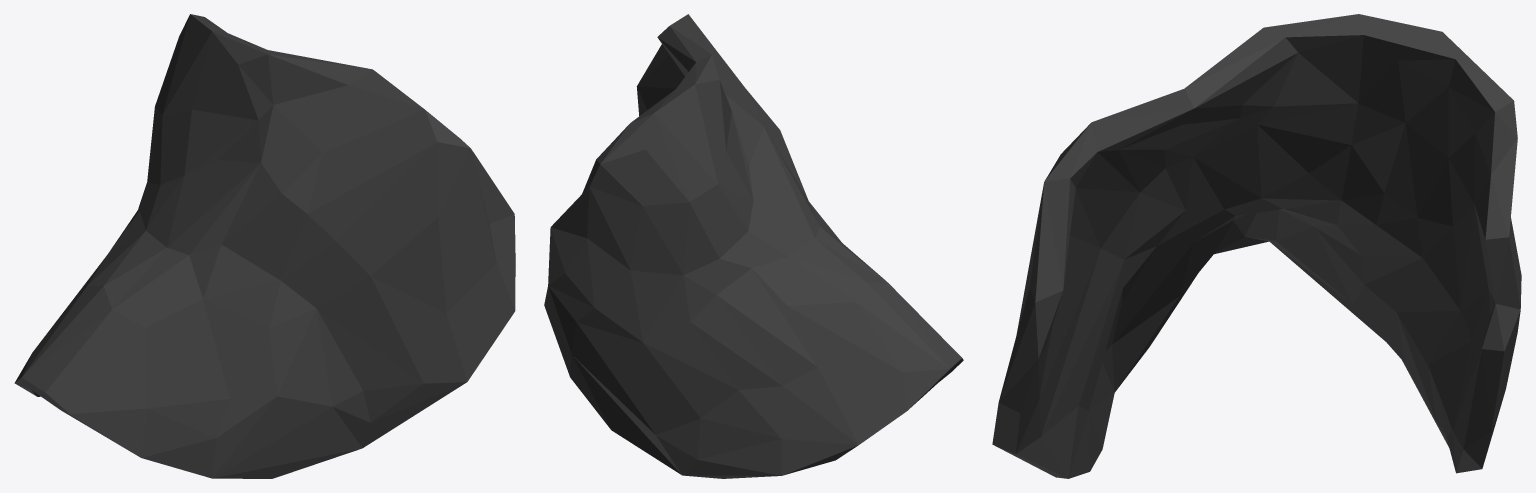
File: Femur_intercondyloid_fossa.glb
3 views of the same model, side by side, from view 1: azimuth 30°, elevation 25°; view 2: azimuth 150°, elevation 25°; view 3: azimuth 270°, elevation 25° (orthographic). The views are drawn at different scales.
Visible parts, largest first — view 1: Femur_intercondyloid_fossa; view 2: Femur_intercondyloid_fossa; view 3: Femur_intercondyloid_fossa.
Part boxes in pixels (x1,y1,x2,y2): Femur_intercondyloid_fossa: [14, 14, 515, 478]; Femur_intercondyloid_fossa: [544, 14, 963, 478]; Femur_intercondyloid_fossa: [992, 14, 1521, 478].
Size of the model in its own units: 0.0233 by 0.0201 by 0.0202.
Materials: 1 (1 with a texture image).
